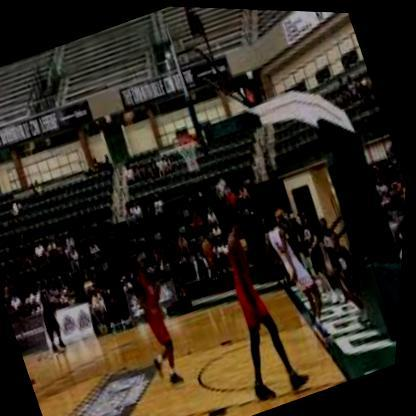basketball: (201, 235, 220, 260)
rim: (173, 128, 201, 149)
